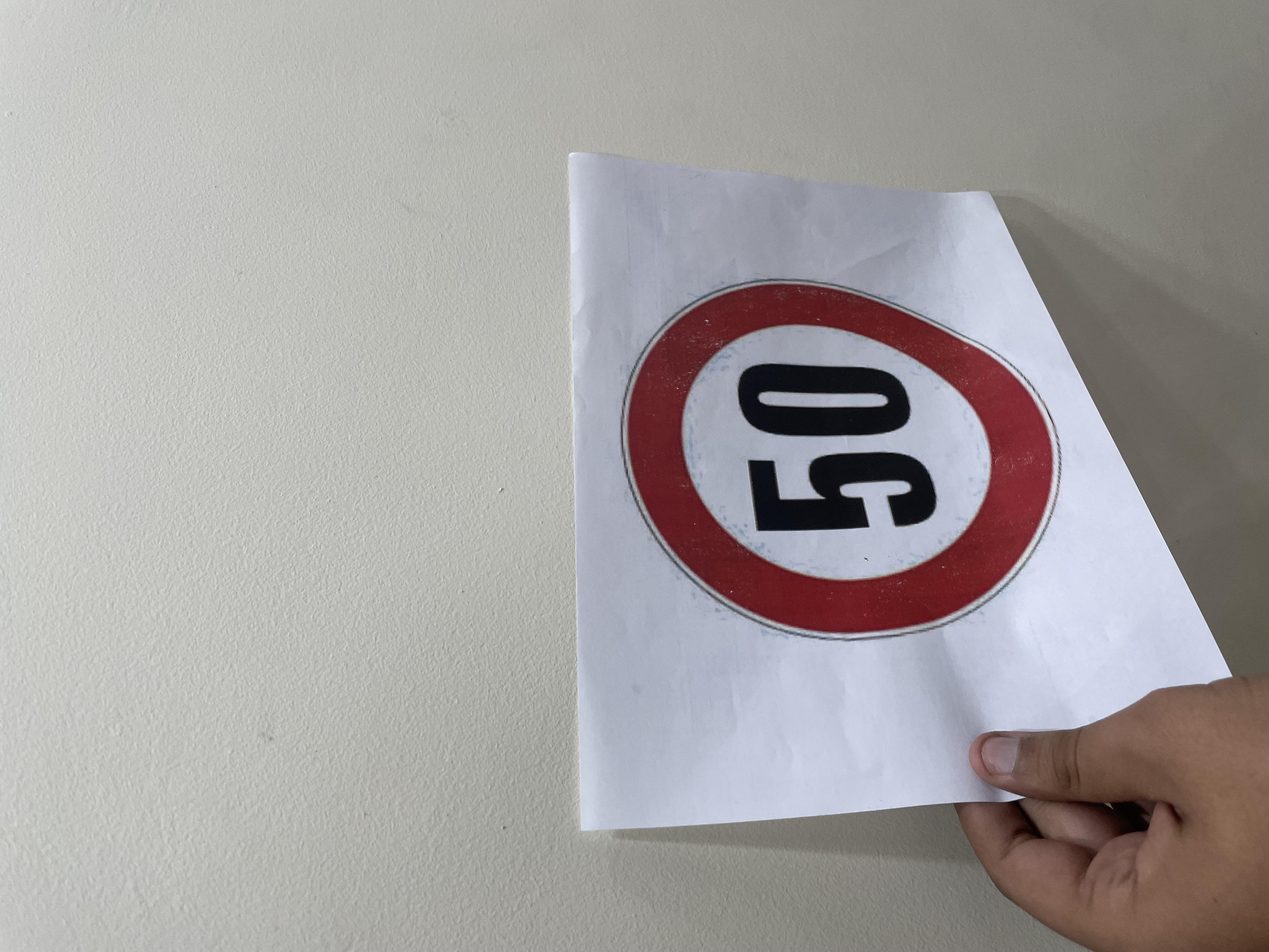50-Speed: (408, 454, 898, 791)
